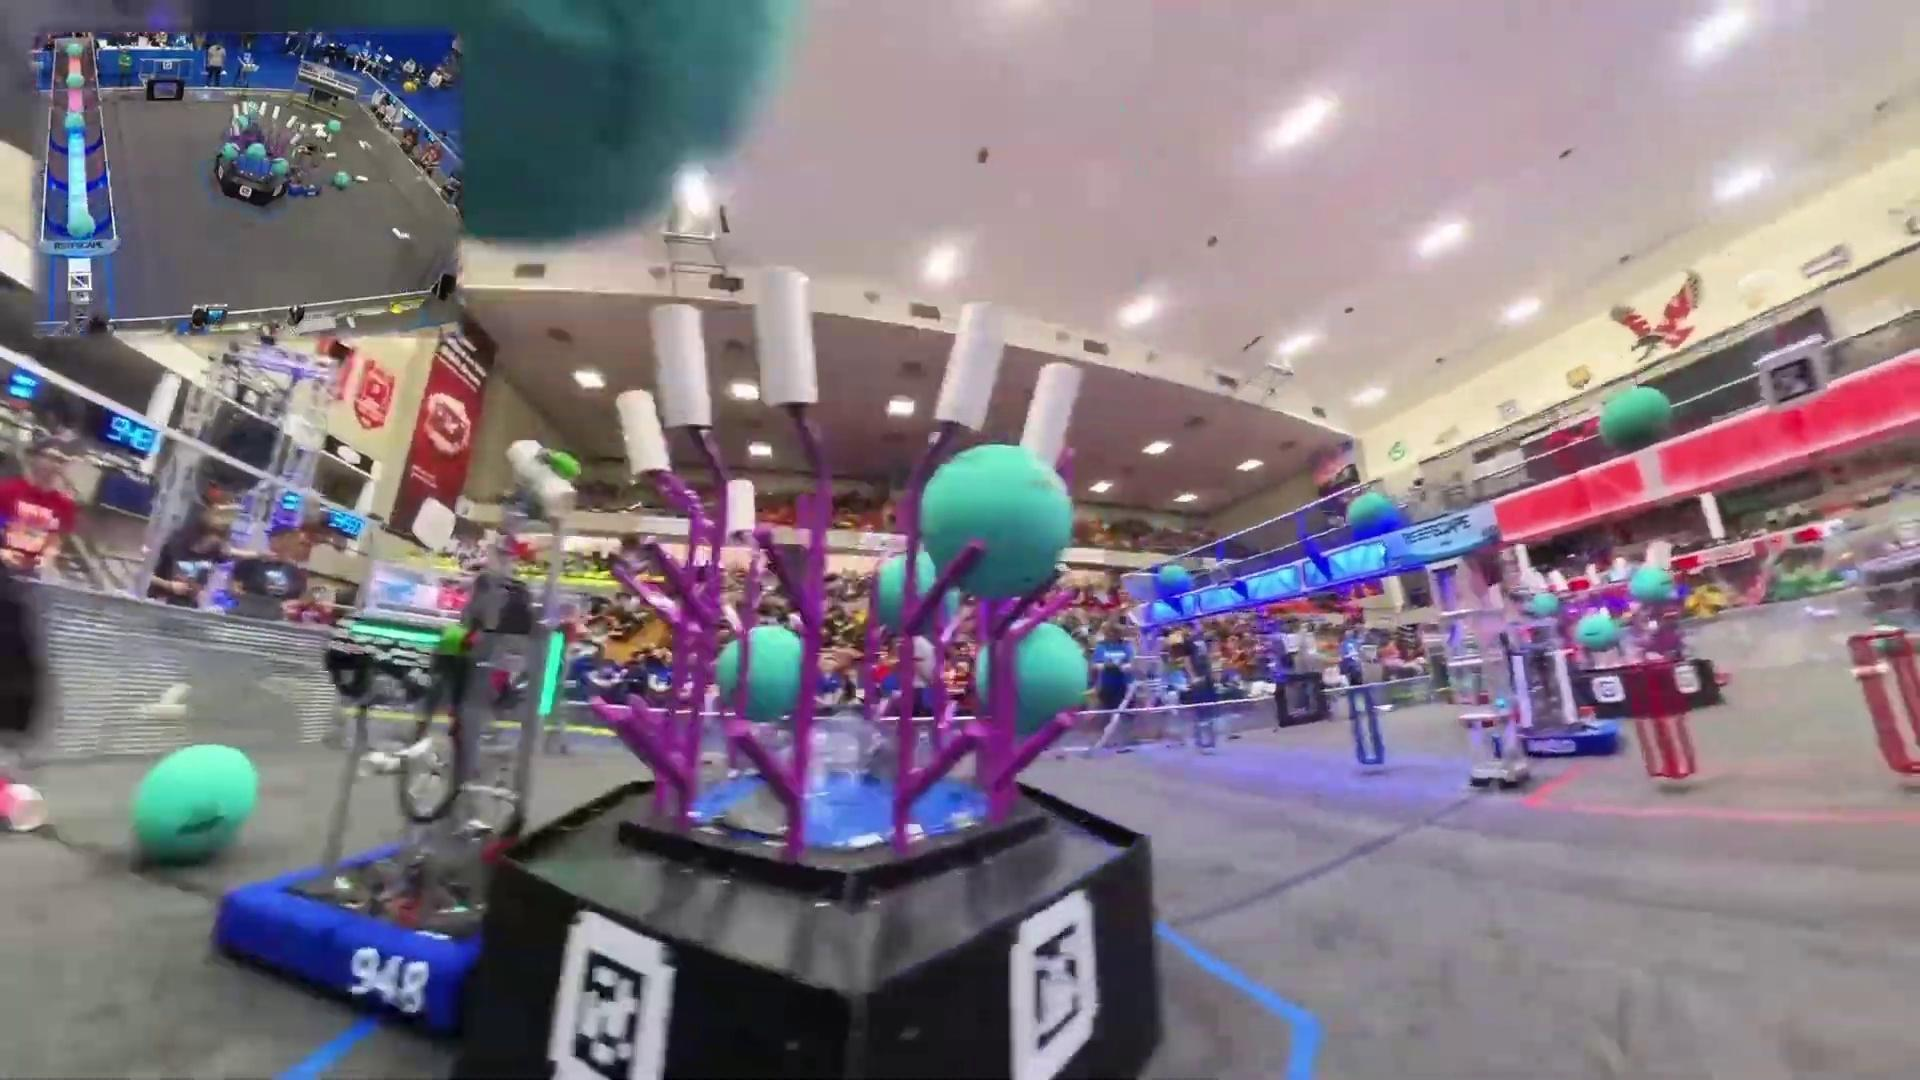robot: (208, 463, 603, 1044), (1494, 611, 1619, 761), (286, 142, 324, 200)
